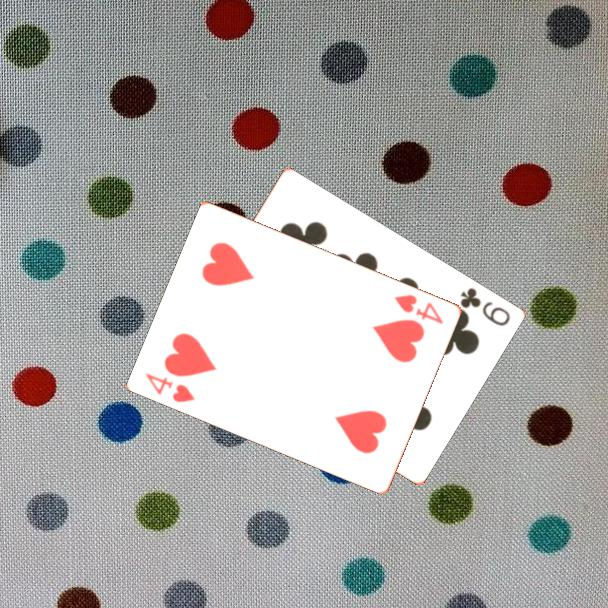c09: (456, 284, 513, 329)
h04: (391, 291, 447, 327), (142, 369, 198, 405)
